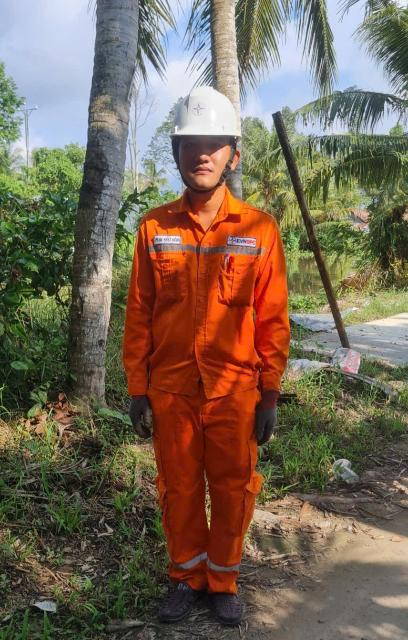gloves: (253, 379, 307, 451), (111, 388, 171, 445)
helmet: (169, 84, 246, 148)
shoes: (136, 556, 208, 634), (208, 571, 263, 631)
